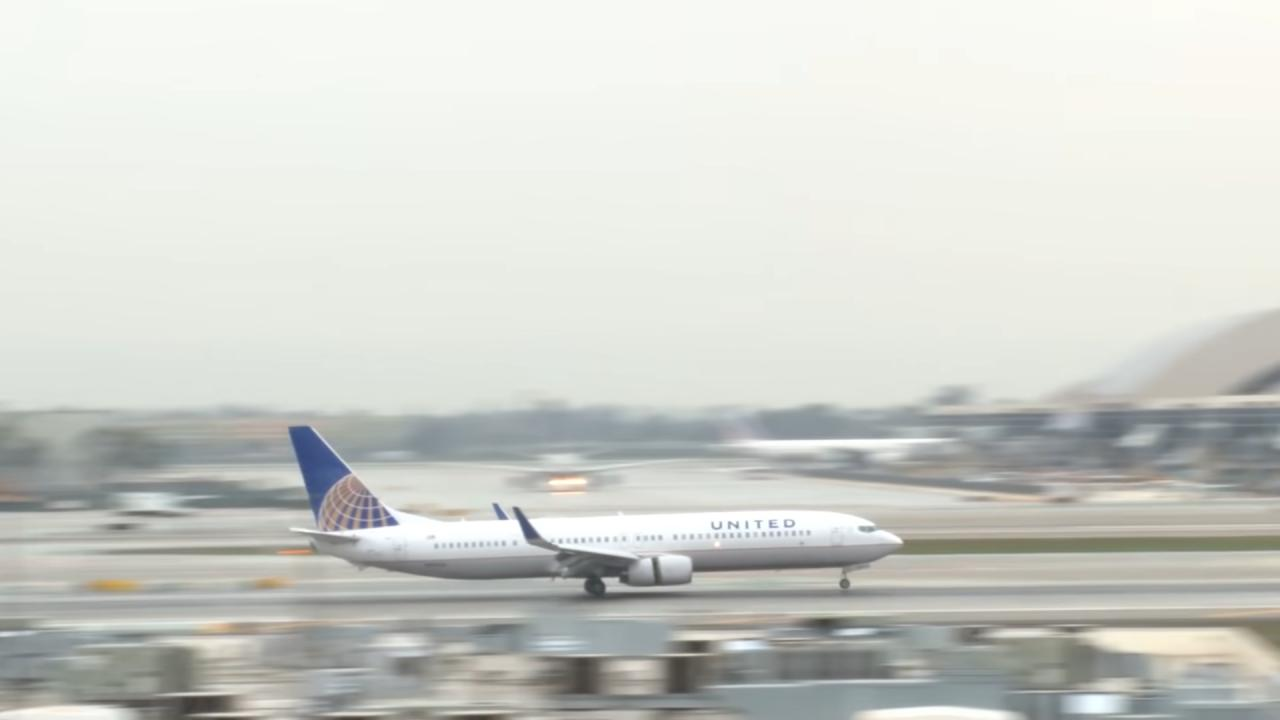Airplane: (271, 411, 915, 622)
